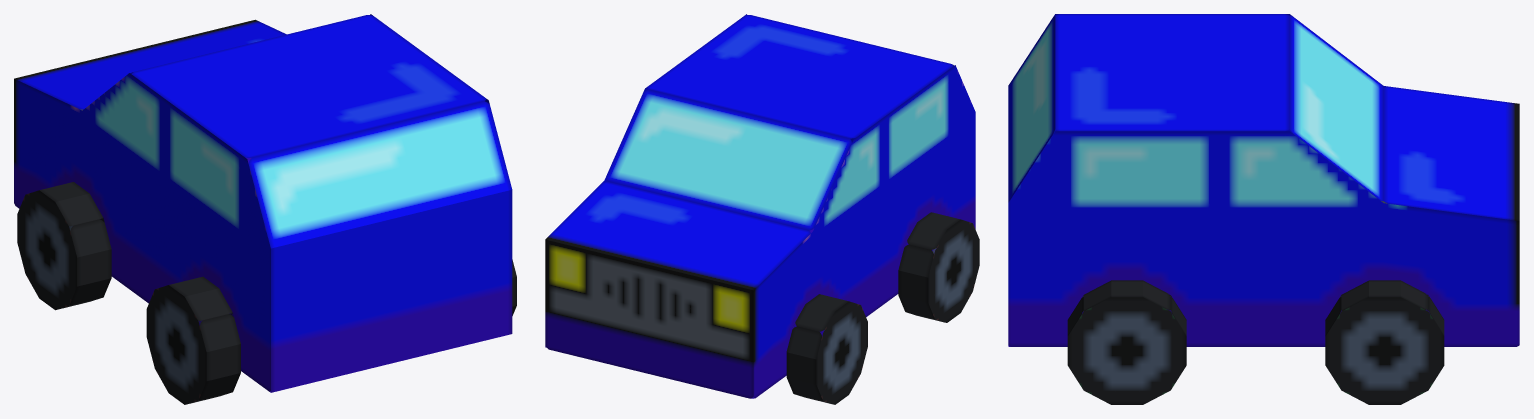
The model's file is car3.fbx.
The picture shows the model from 3 angles, left to right: view 1: azimuth 30°, elevation 25°; view 2: azimuth 150°, elevation 25°; view 3: azimuth 270°, elevation 25°; orthographic projection. The views are drawn at different scales.
Visible parts, largest first — view 1: mesh, cylinder, cylinder_1; view 2: mesh, cylinder_1, cylinder; view 3: mesh, cylinder_2, cylinder_3.
Boxes of the visible parts, x1,y1,x2,y2 form: mesh: (14,14,512,392); cylinder: (17,182,111,310); cylinder_1: (146,276,240,404); mesh: (545,14,975,398); cylinder_1: (898,212,979,322); cylinder: (786,294,867,404); mesh: (1008,14,1519,346); cylinder_2: (1325,280,1444,404); cylinder_3: (1067,280,1186,404).
Bounding box in the file's own units: 56.25 × 44.69 × 80.62.
1 material, 1 textured.
